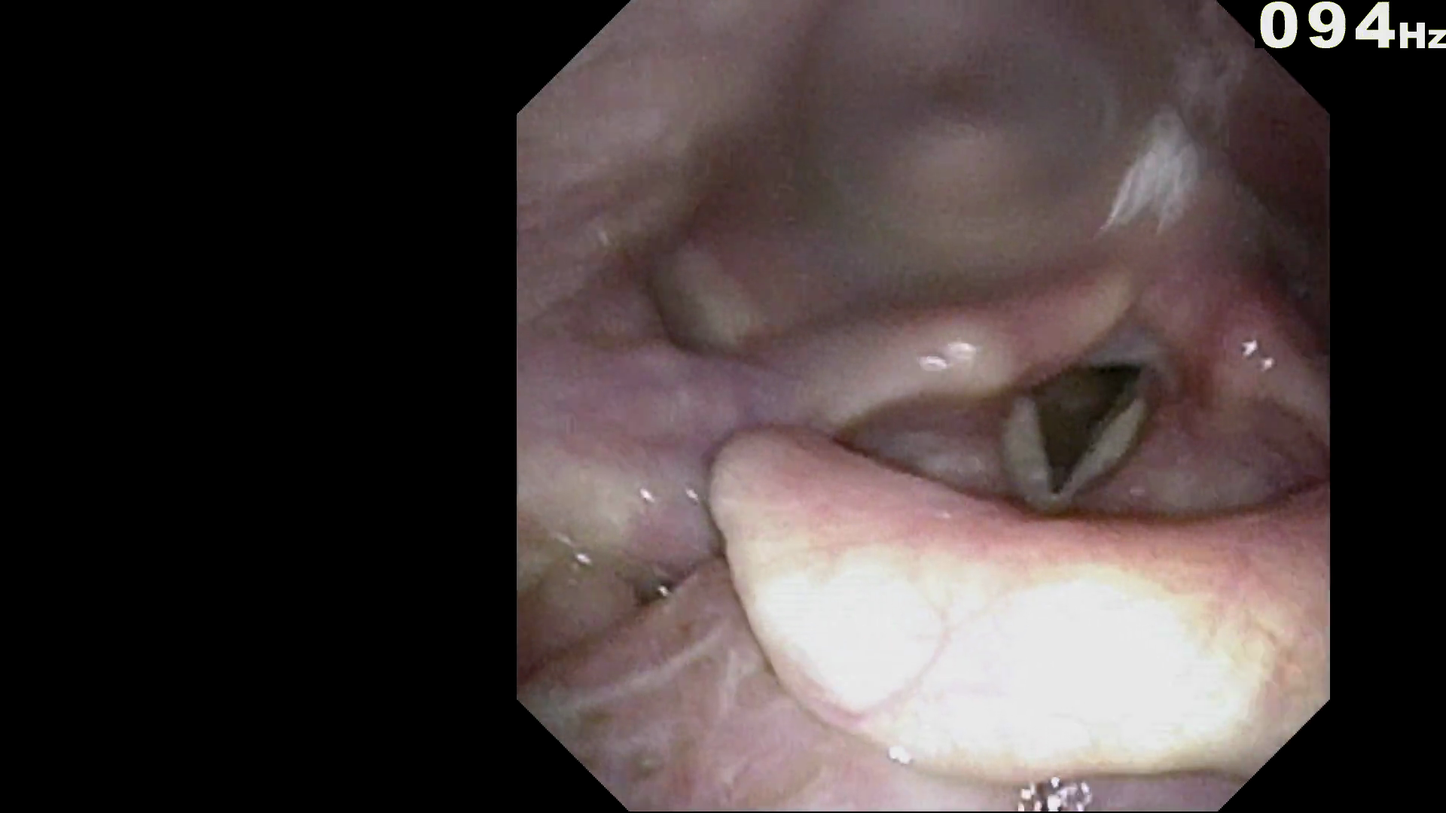epiglottis: (740, 478, 1312, 703)
trachea: (1005, 352, 1155, 492)
